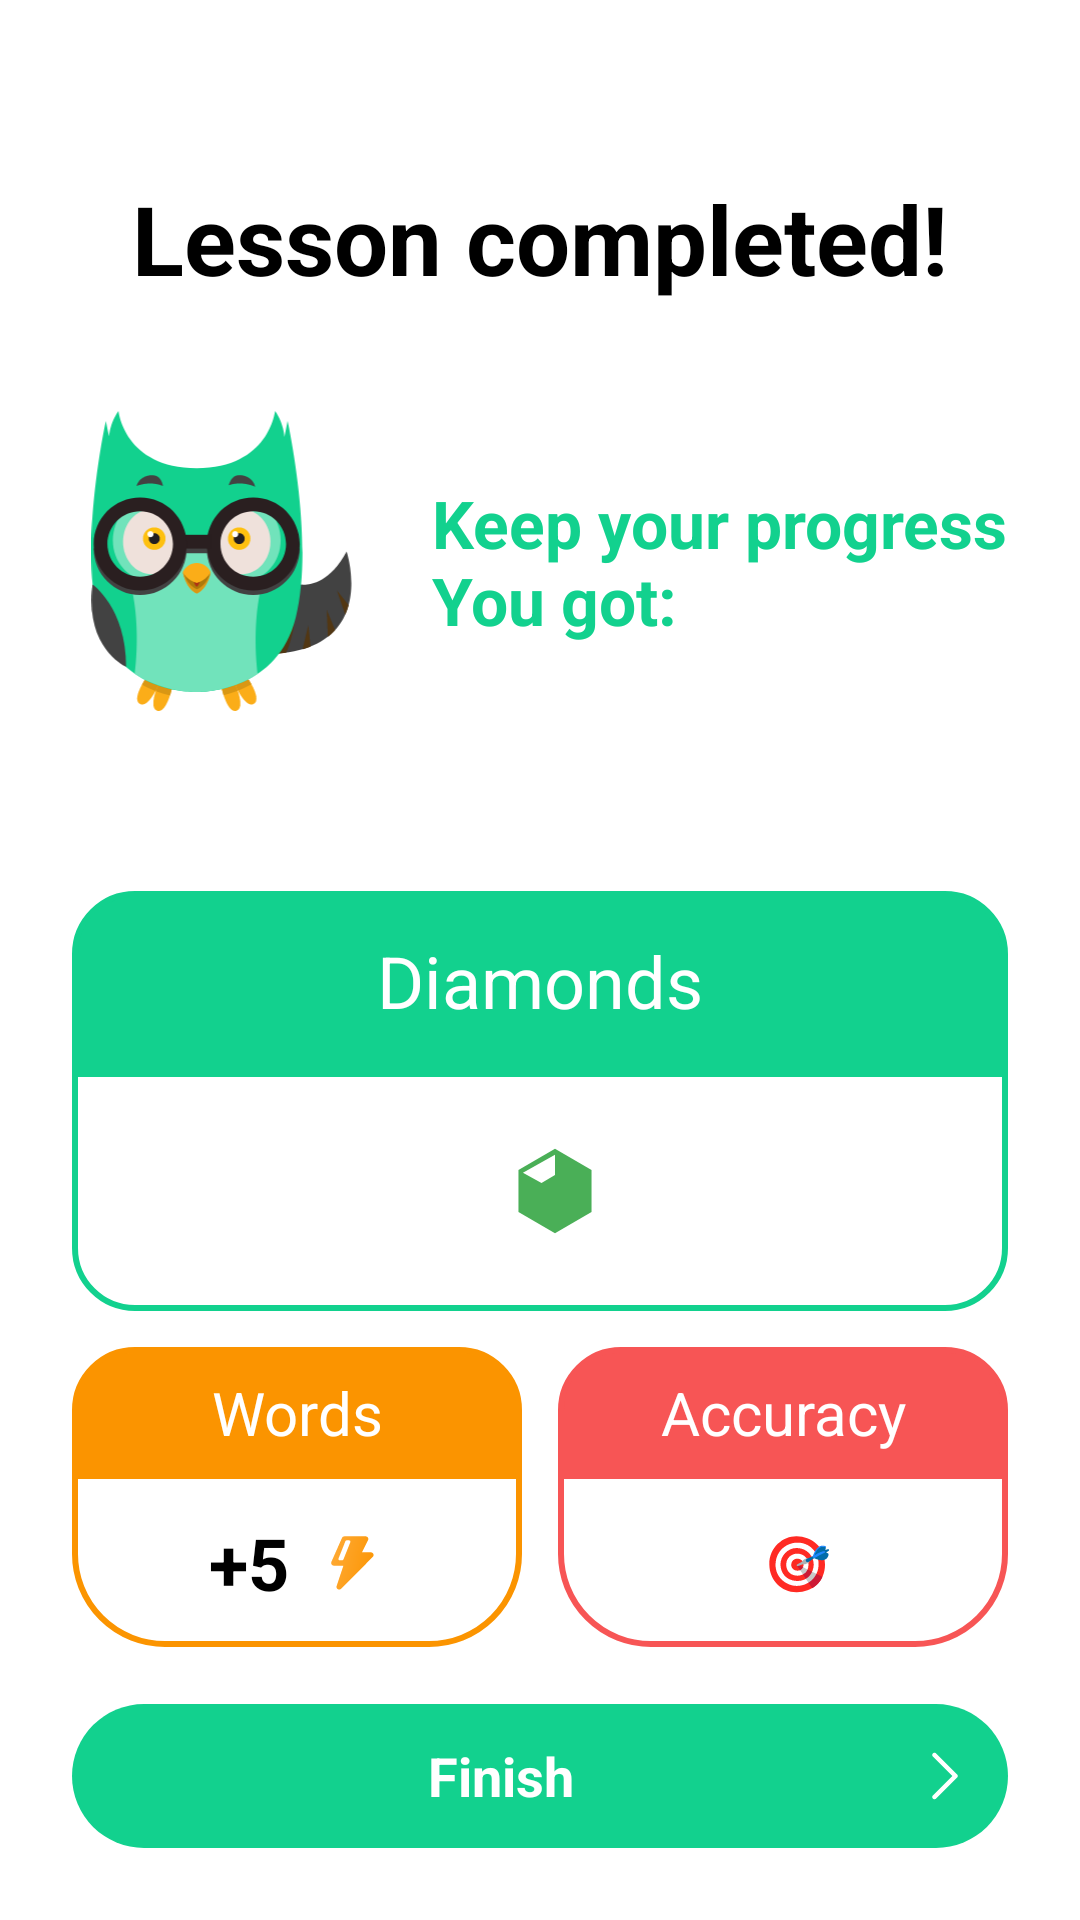

Where icons sit on this 1080 × 1920 app screen, as box=[x1, y1, x2, y2]:
almaz: box=[518, 1149, 592, 1233]
qush hello: box=[91, 411, 352, 711]
